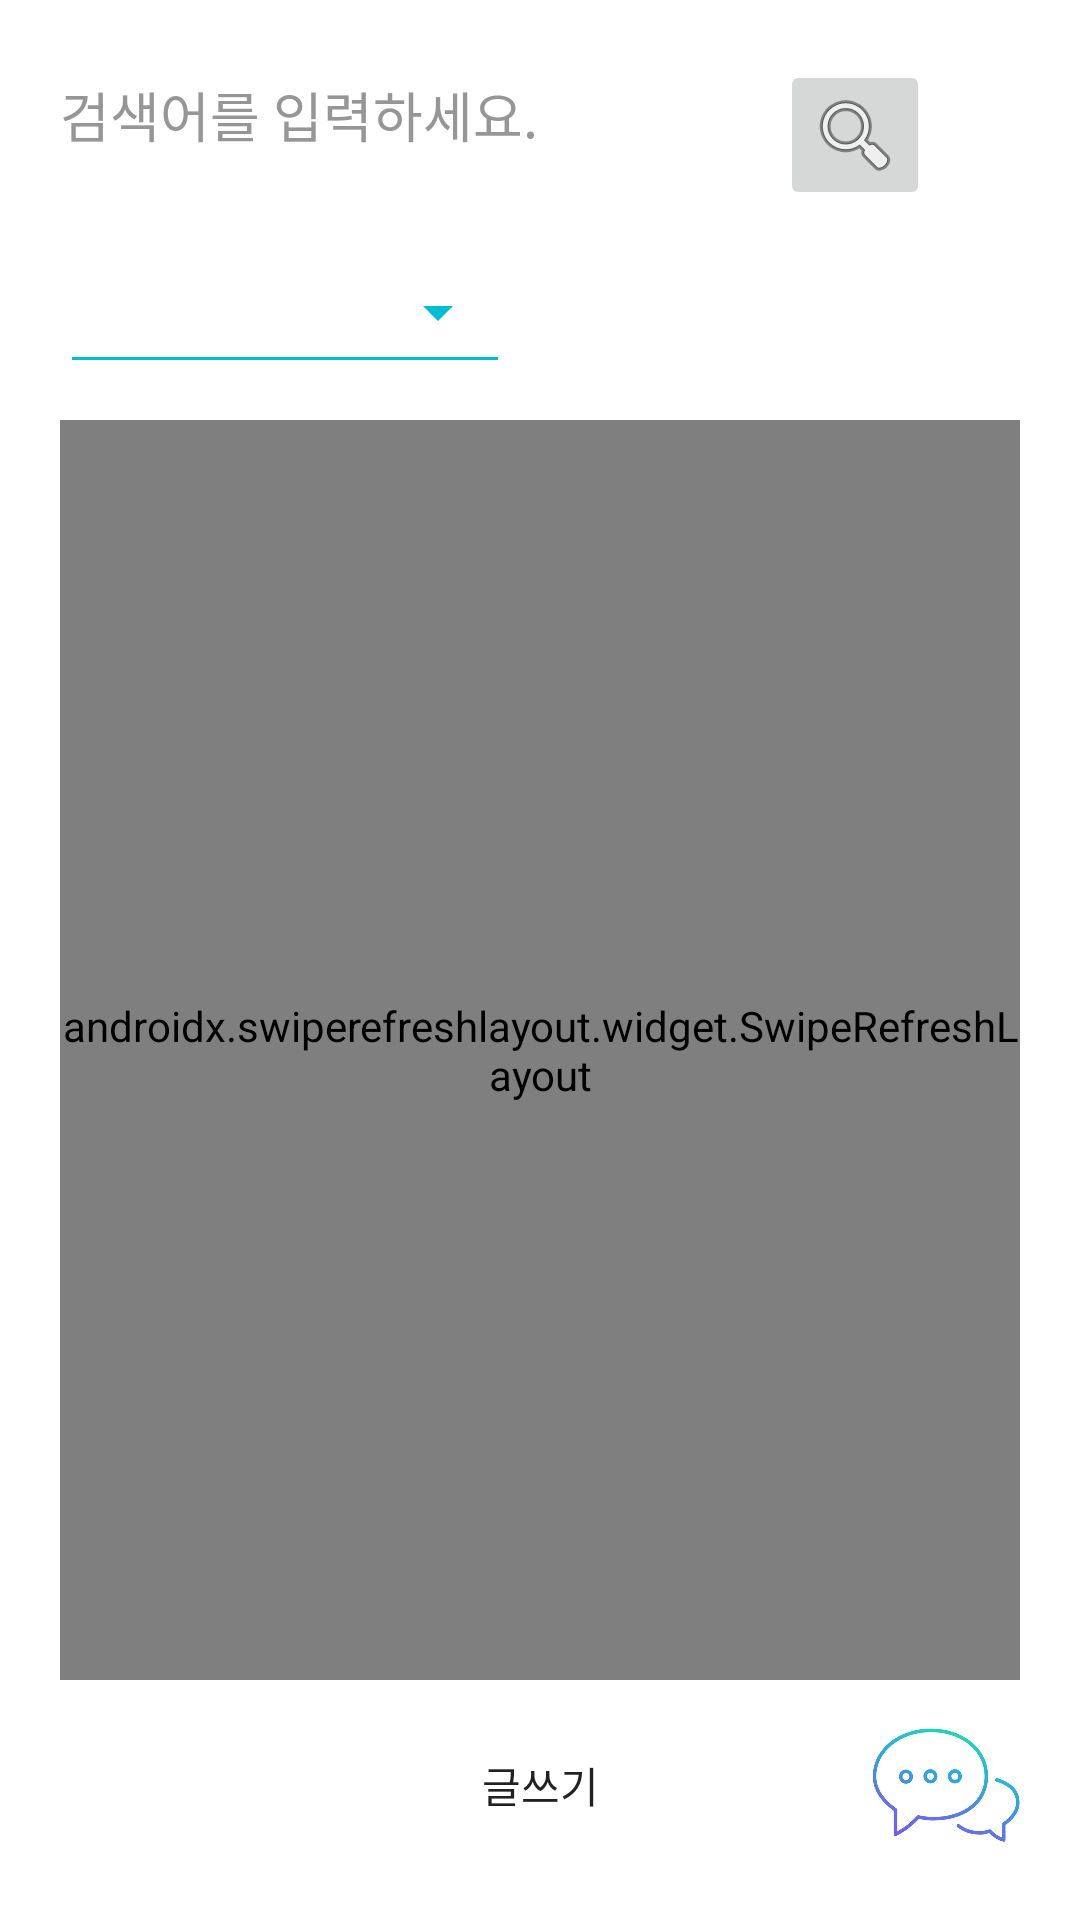

Where icons sit on this 1080×1920 app screen, as region(x1, y1, x2, y2):
chat: region(873, 1728, 1020, 1842)
키워드 찾기: region(792, 78, 918, 192)
